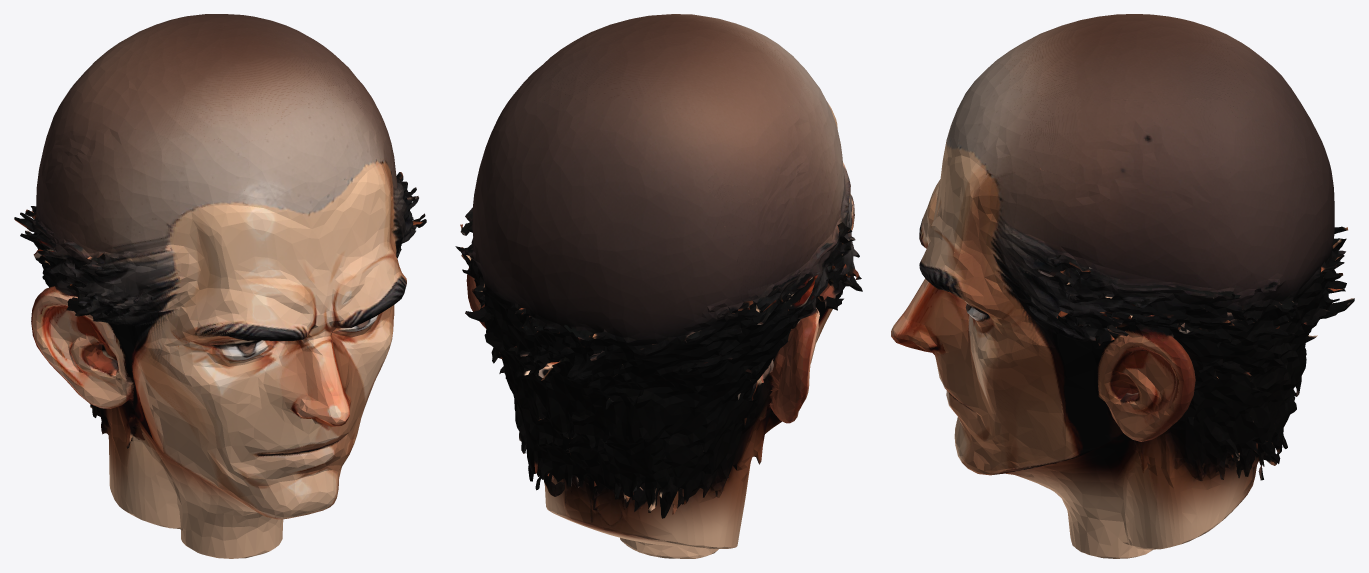
Rendered from side_gatekeeper_repaired_atlas.glb.
3 renders of one model, left to right at view 1: azimuth 30°, elevation 25°; view 2: azimuth 150°, elevation 25°; view 3: azimuth 270°, elevation 25°, orthographic. The views are drawn at different scales.
Visible parts, largest first — view 1: temp_mesh.ply; view 2: temp_mesh.ply; view 3: temp_mesh.ply.
Boxes of the visible parts, bbox=[...] form: temp_mesh.ply: bbox=[14, 14, 426, 558]; temp_mesh.ply: bbox=[455, 14, 862, 558]; temp_mesh.ply: bbox=[891, 14, 1354, 558].
Bounding box in the file's own units: 0.96 × 1.32 × 1.09.
1 material, 1 textured.
